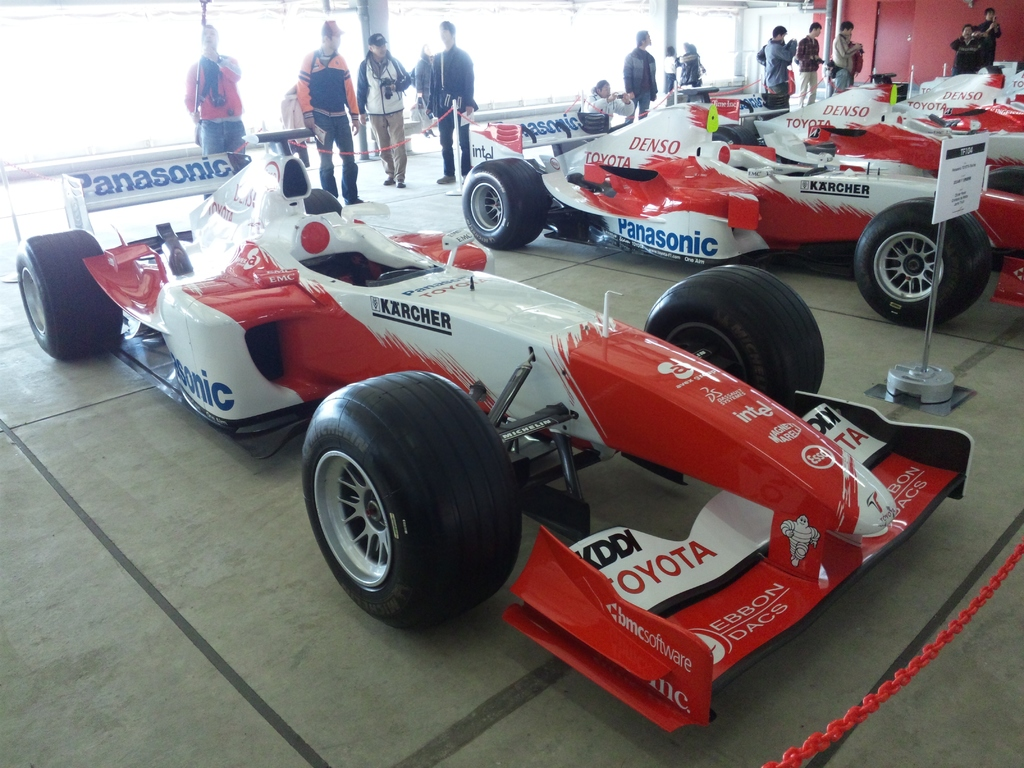Car: (9, 144, 981, 744), (461, 88, 1023, 332), (732, 72, 1023, 189)
